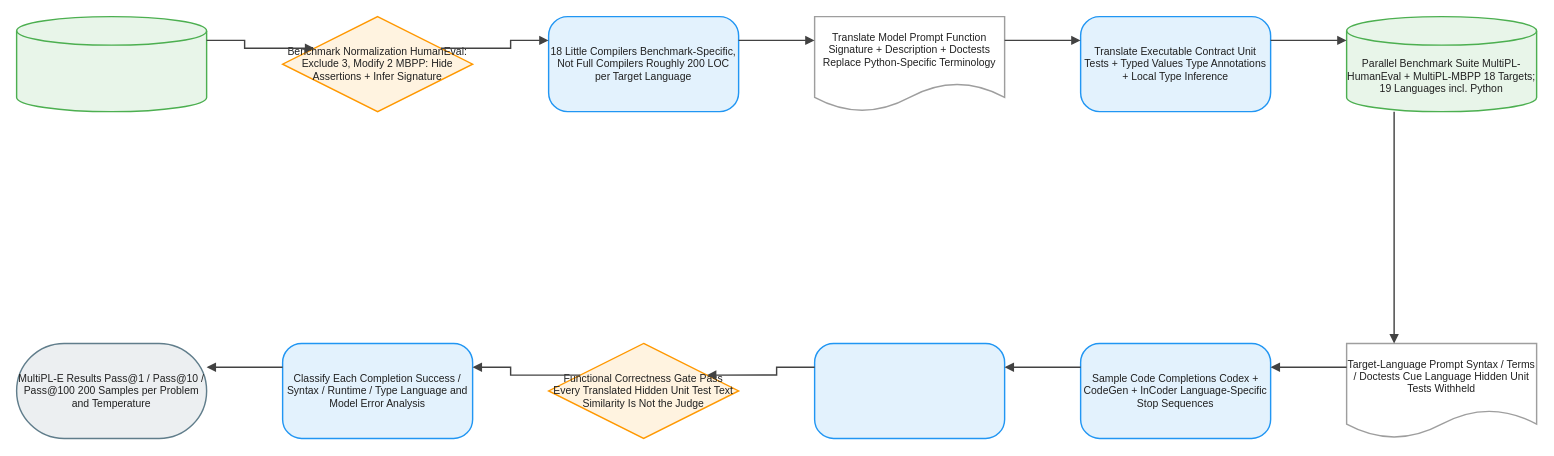
The diagram is 1554 pixels wide and 456 high, and some of its shapes have lost their labels. Here are the shapes that lost their labels. From the top down, the centre of each, then its label:
point 111,63: Python Source Benchmarks HumanEval: 164 Problems MBPP: Description + Assertions
point 909,390: Containerized Sandbox Compile When Required Run With Language Timeouts
